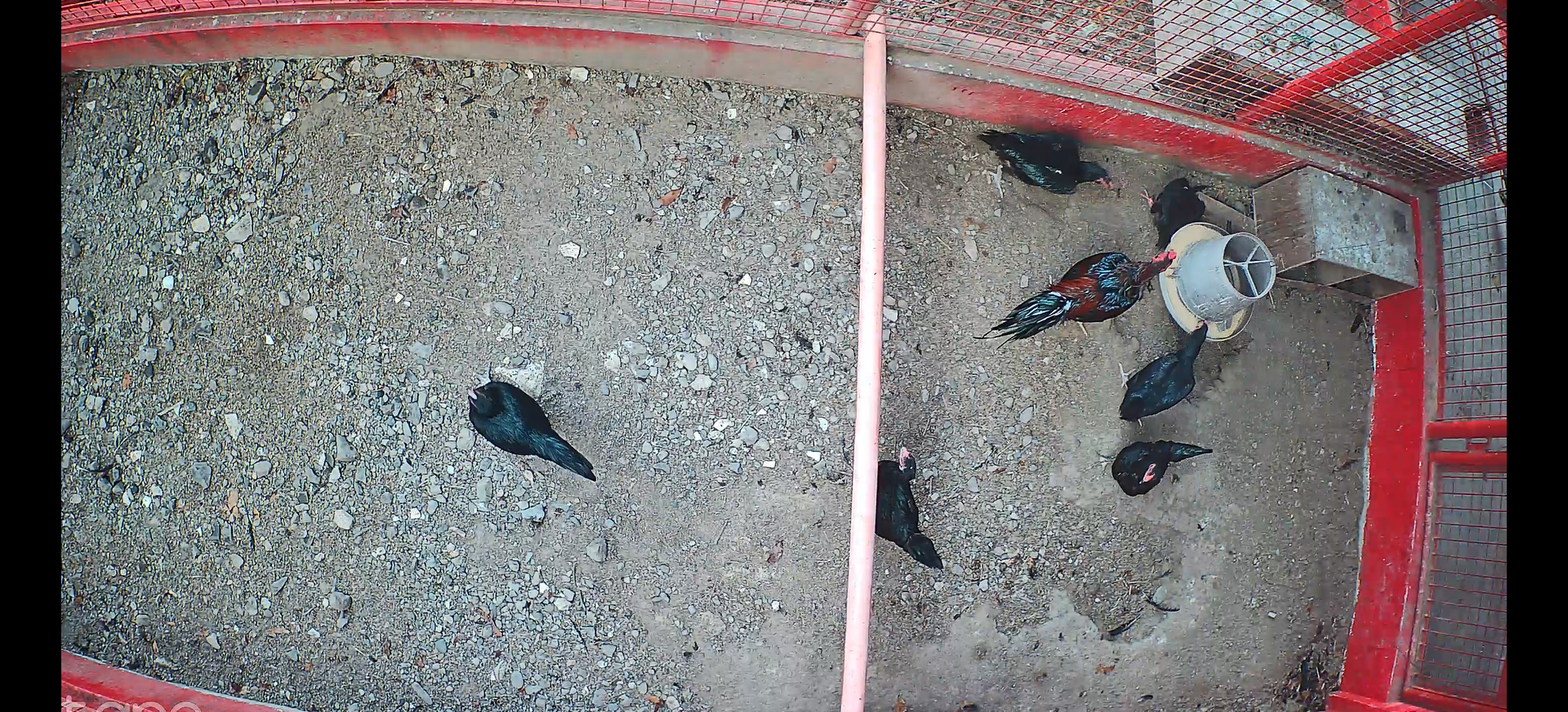Chicken: (456, 360, 598, 481), (1114, 316, 1209, 429), (973, 127, 1115, 202), (875, 443, 945, 571), (1088, 436, 1216, 497), (1135, 170, 1207, 248)
Rooster: (975, 247, 1178, 359)
